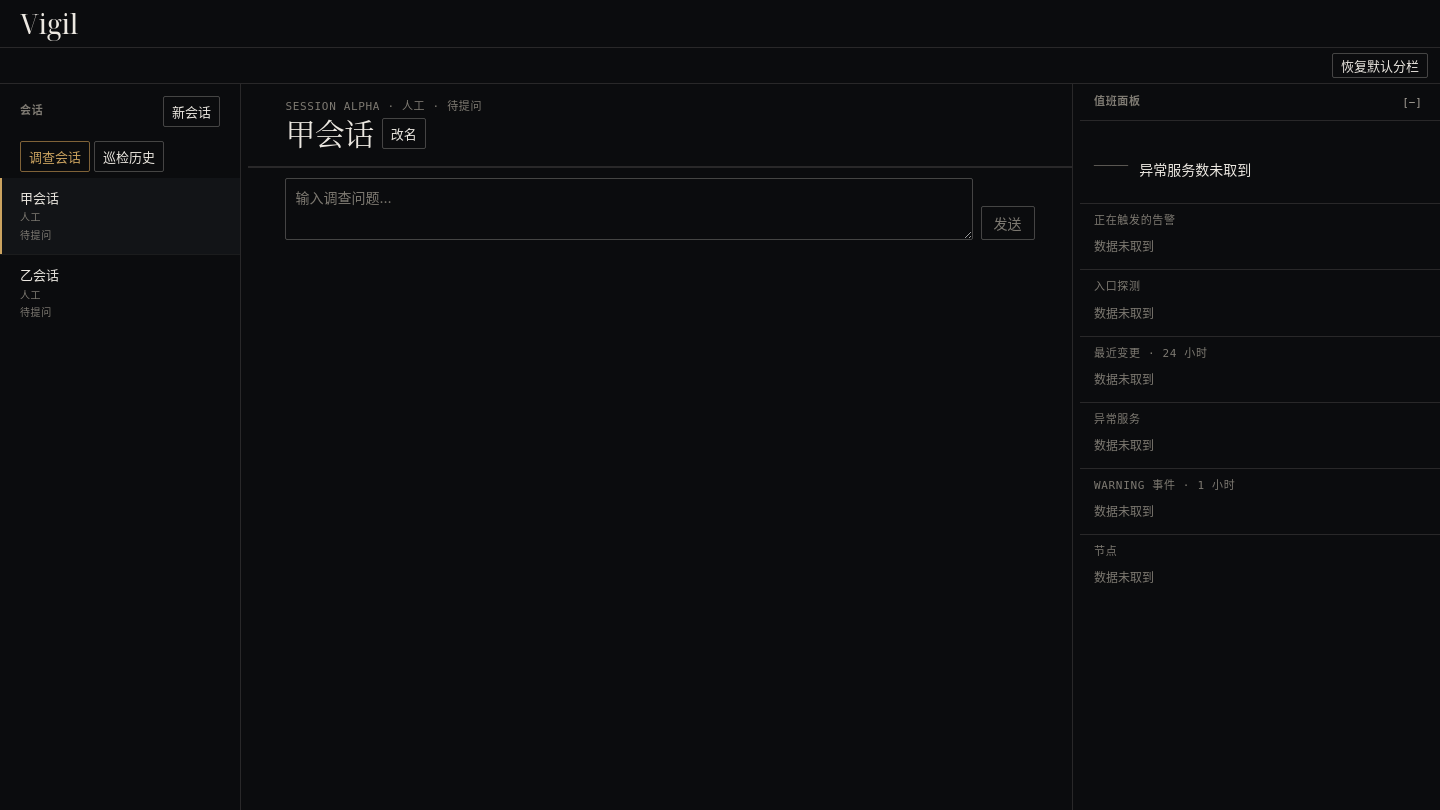
Test: 改名保留编辑中的草稿，回执同步详情和会话列表并抵抗晚到读取
Step 1. Click the button "甲会话" → {"x": 330, "y": 134}, box [285,116,374,152]
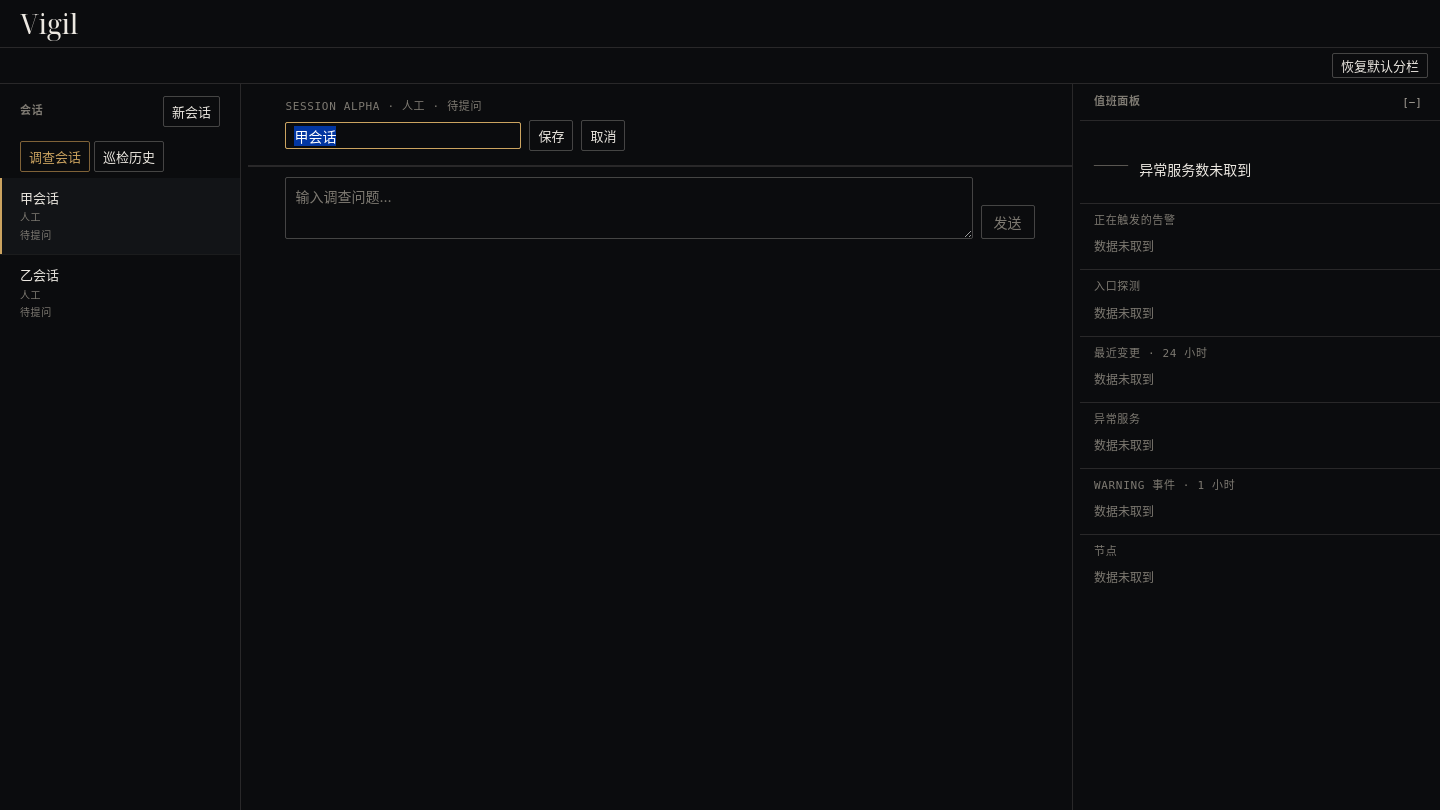
Step 2. Replace the text in the field named "会话名称" with "人工草稿" → {"x": 403, "y": 136}, box [285,122,521,149]
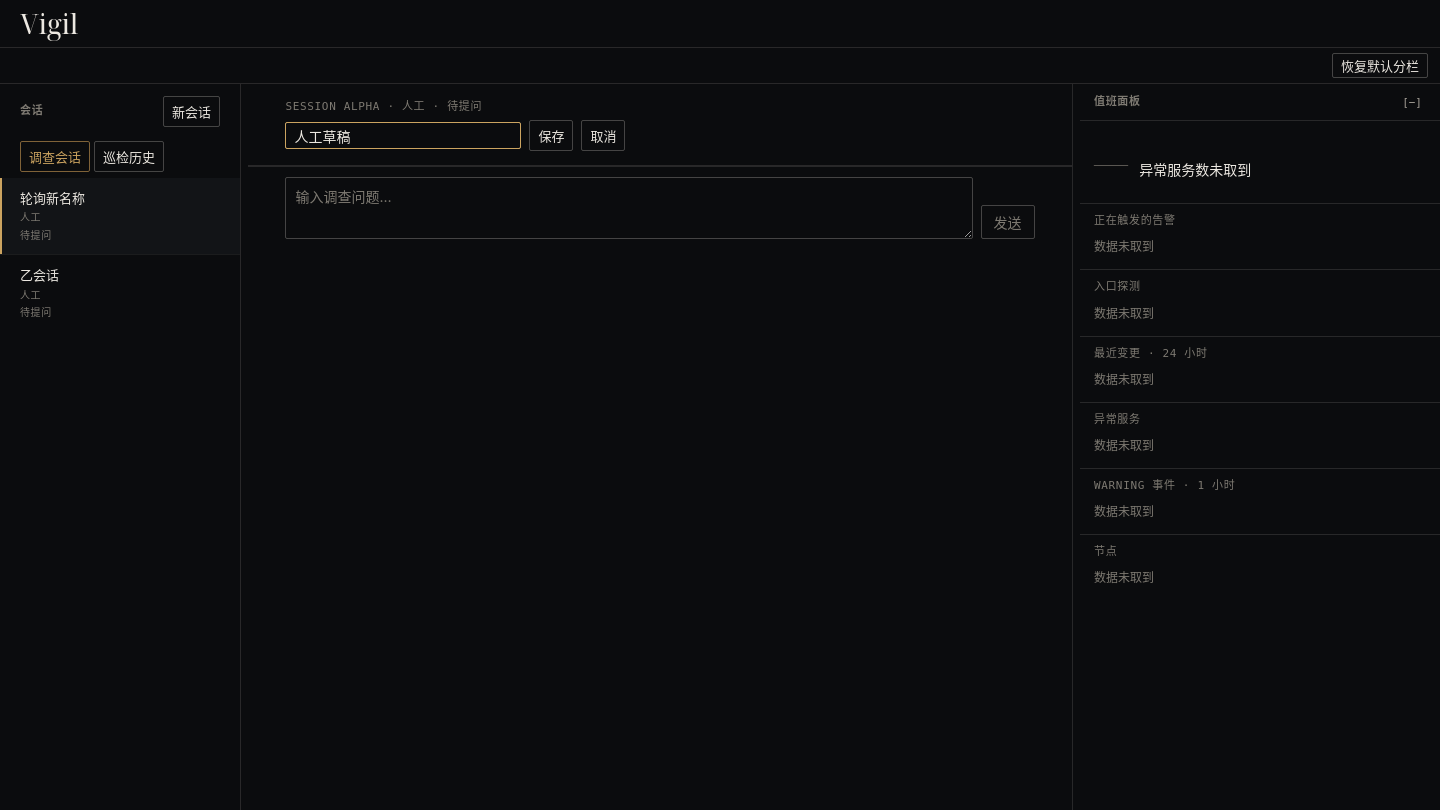
Check: the link "轮询新名称 人工 待提问" is shown, box [20,190,85,241]
Step 3. Click the button "保存" → {"x": 551, "y": 136}, box [529,120,573,151]
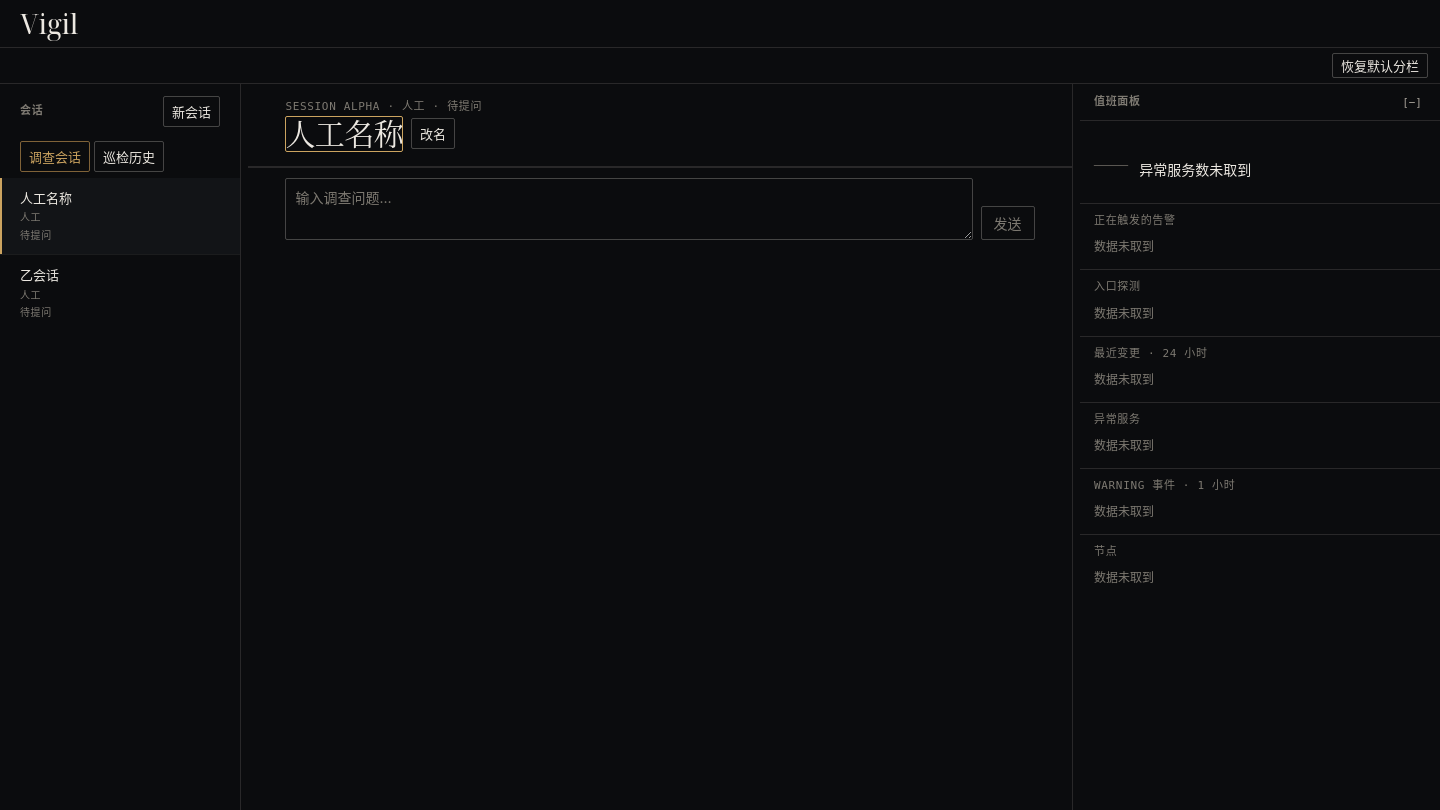
Check: the heading "人工名称" is shown, box [285,116,403,152]
Check: the link "人工名称 人工 待提问" is shown, box [20,190,72,241]
